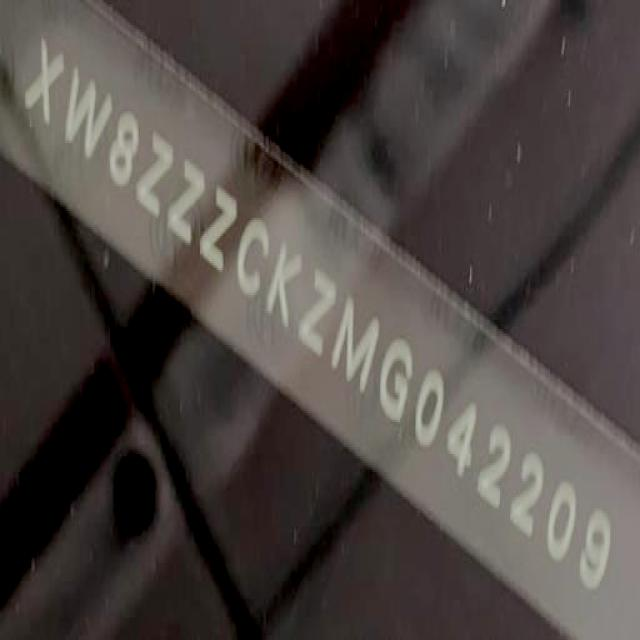0: (409, 363, 452, 455), (542, 480, 584, 570)
1: (443, 394, 484, 476)
2: (475, 424, 511, 507), (510, 449, 545, 534)
8: (103, 105, 146, 196)
9: (580, 508, 612, 592)
C: (230, 214, 278, 306)
G: (373, 330, 421, 432)
K: (262, 240, 310, 335)
M: (330, 296, 385, 395)
W: (49, 52, 120, 169)
X: (15, 30, 69, 143)
Z: (132, 130, 181, 228), (295, 265, 344, 361), (194, 182, 244, 275), (163, 154, 210, 249)
